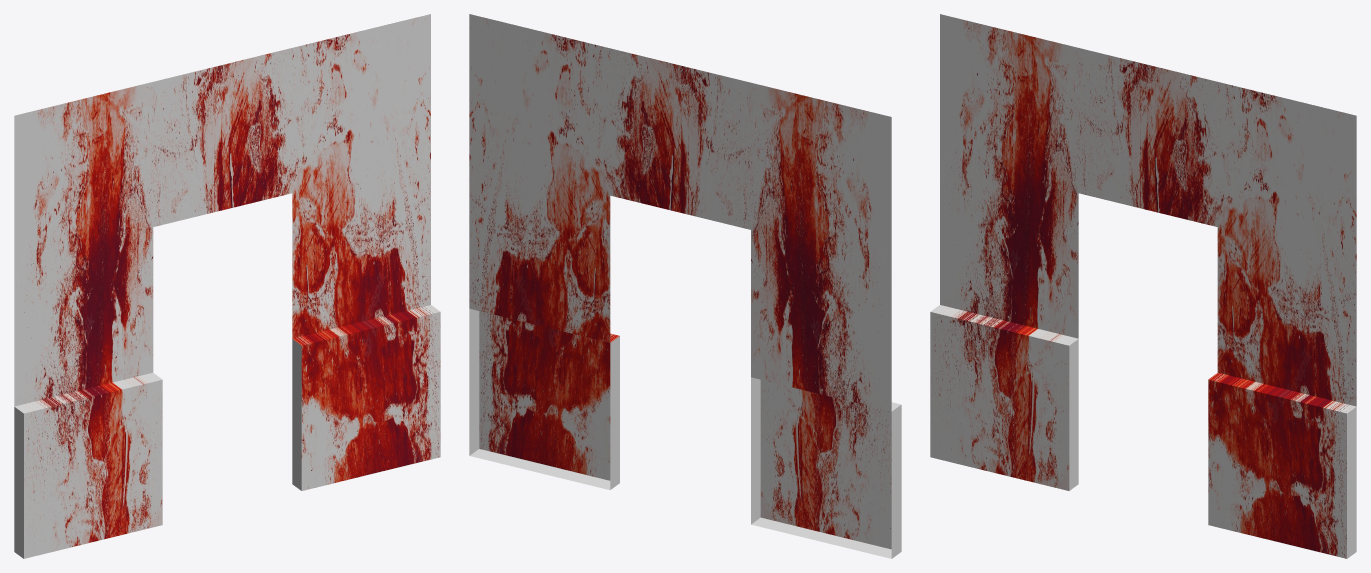
Rendered from Marco_12.fbx.
3 renders of one model, left to right at view 1: azimuth 30°, elevation 25°; view 2: azimuth 150°, elevation 25°; view 3: azimuth 330°, elevation 25°, orthographic.
Visible parts, largest first — view 1: Plane.022; view 2: Plane.022; view 3: Plane.022.
Boxes of the visible parts, bbox=[...] form: Plane.022: bbox=[14, 14, 440, 558]; Plane.022: bbox=[469, 14, 901, 558]; Plane.022: bbox=[930, 14, 1356, 558].
Size of the model in its own units: 600 by 600 by 23.84.
